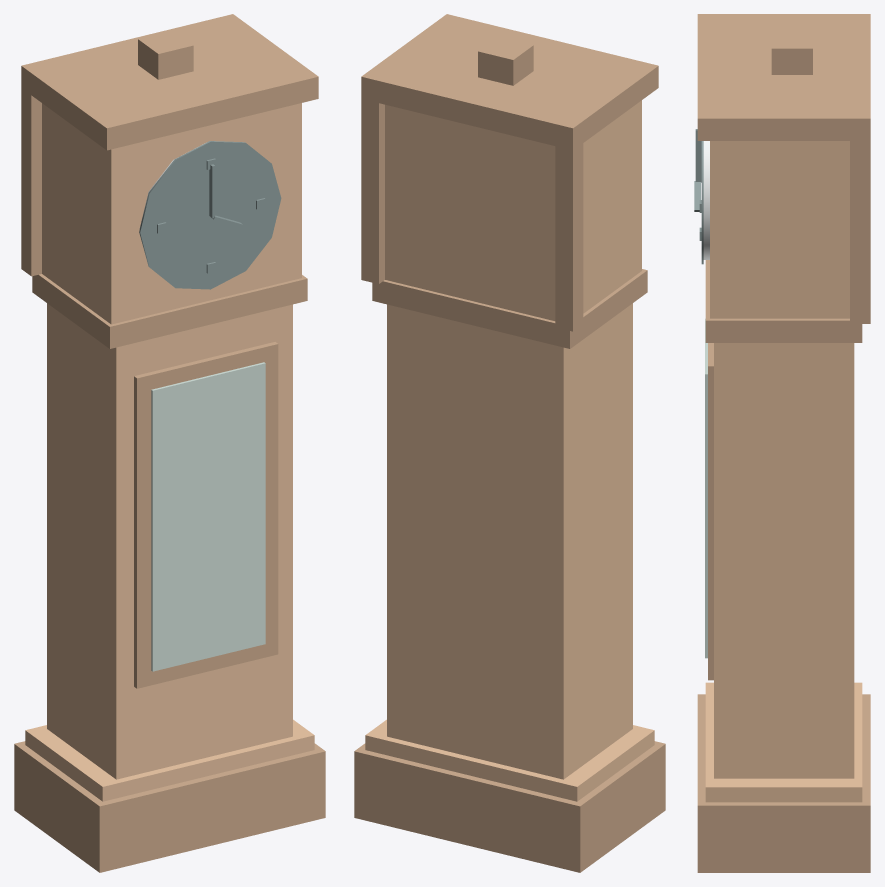
Rendered from clockGrandfather.glb.
3 views of the same model, side by side, from view 1: azimuth 30°, elevation 25°; view 2: azimuth 150°, elevation 25°; view 3: azimuth 270°, elevation 25° (orthographic).
Parts seen in each view (by area): view 1: clockGrandfather; view 2: clockGrandfather; view 3: clockGrandfather.
Boxes of the visible parts, x1=… form: clockGrandfather: x1=14, y1=14, x2=325, y2=872; clockGrandfather: x1=354, y1=14, x2=665, y2=872; clockGrandfather: x1=694, y1=14, x2=870, y2=872.
Size of the model in its own units: 0.32 by 1.04 by 0.214.
